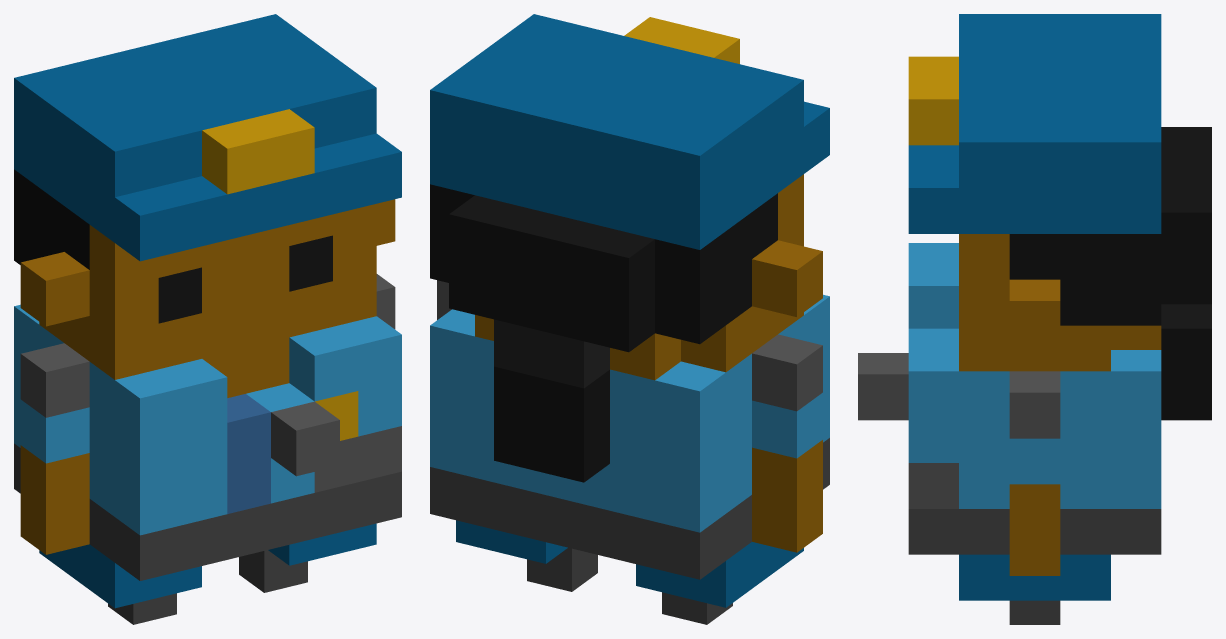
The model's file is chr_cop2.obj.
3 views of the same model, side by side, from view 1: azimuth 30°, elevation 25°; view 2: azimuth 150°, elevation 25°; view 3: azimuth 270°, elevation 25° (orthographic). The views are drawn at different scales.
Size of the model in its own units: 0.8 by 1.1 by 0.7.
1 material, 1 textured.
